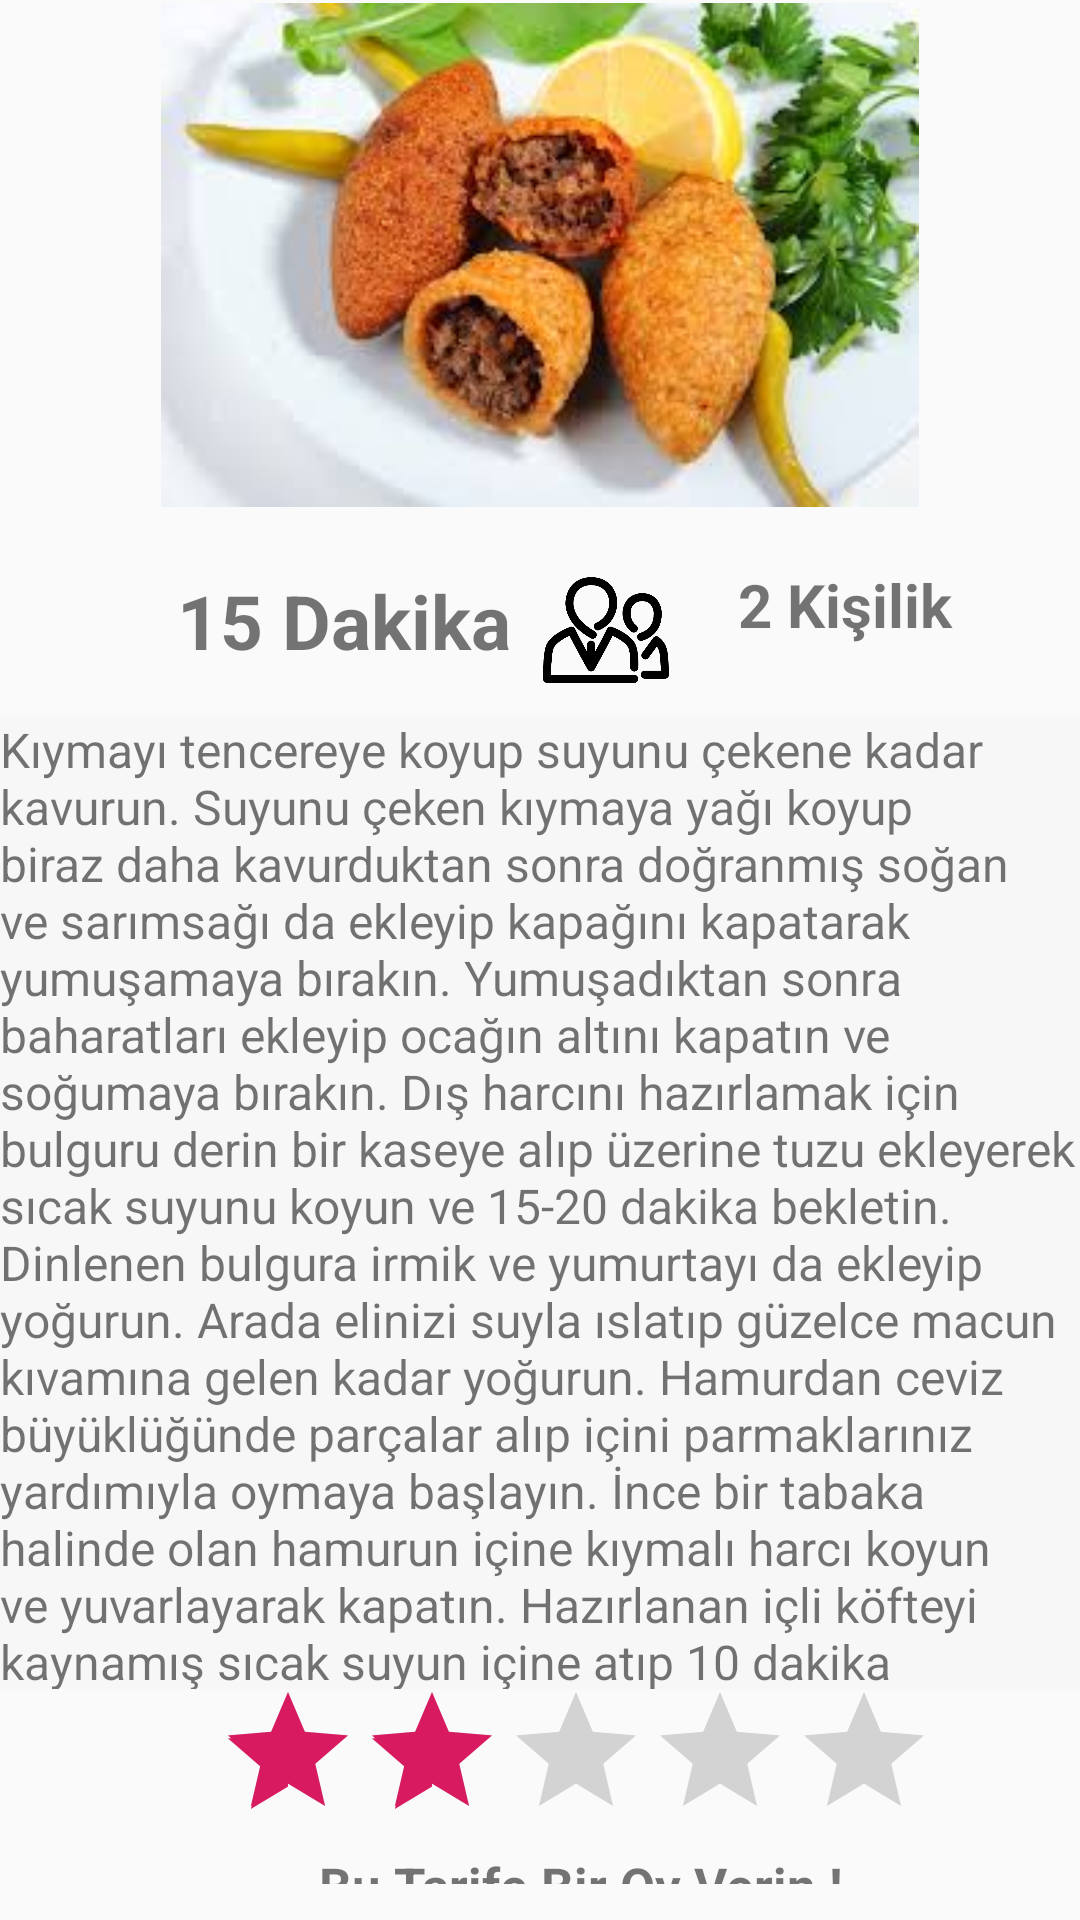

Icon click points for this 1080w x 1920h phone screenshot, format [x,y]:
personicon: [606,630]
